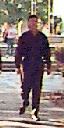person: (8, 16, 55, 128)
